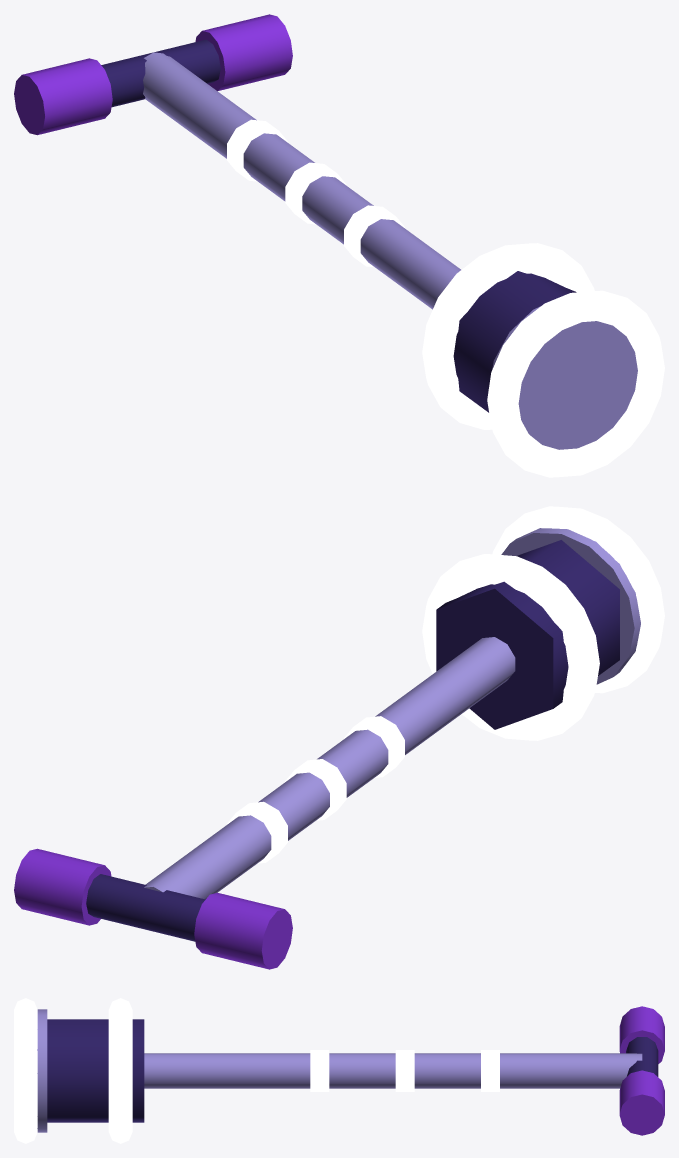
The model's file is cle_tire_fond_epique.glb.
The picture shows the model from 3 angles, top to bottom: view 1: azimuth 30°, elevation 25°; view 2: azimuth 150°, elevation 25°; view 3: azimuth 270°, elevation 25°; orthographic projection. The views are drawn at different scales.
Parts seen in each view (by area): view 1: cle_tire_fond_epique_mesh; view 2: cle_tire_fond_epique_mesh; view 3: cle_tire_fond_epique_mesh.
Boxes of the visible parts, left/top/right/bottom form: cle_tire_fond_epique_mesh: left=14, top=14, right=664, bottom=477; cle_tire_fond_epique_mesh: left=14, top=506, right=664, bottom=969; cle_tire_fond_epique_mesh: left=14, top=998, right=664, bottom=1143.
Size of the model in its own units: 0.44 by 0.3099 by 1.37.
